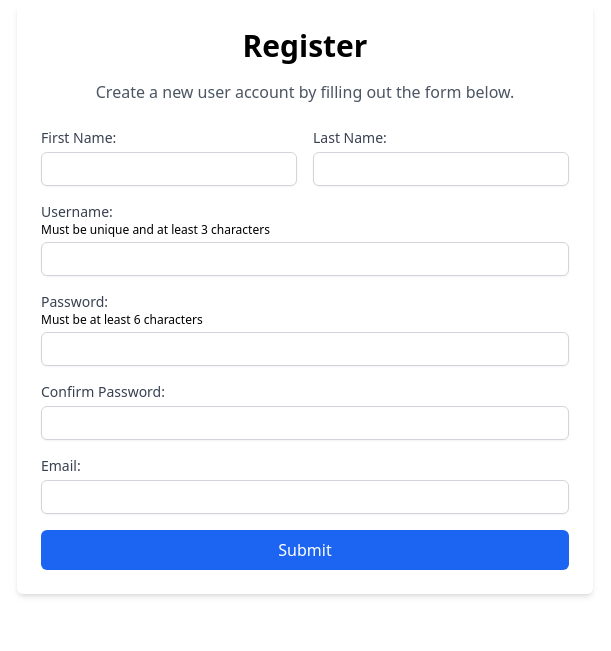
Scenario: RegisterUserForm component › shows server error text when response is not ok
The image size is (611, 651).
In the field labelled "Username:": (305,259) [41,242,569,276], type "testUser"
In the password field labelled "Password:": (305,349) [41,332,569,366], type "testPwd1"
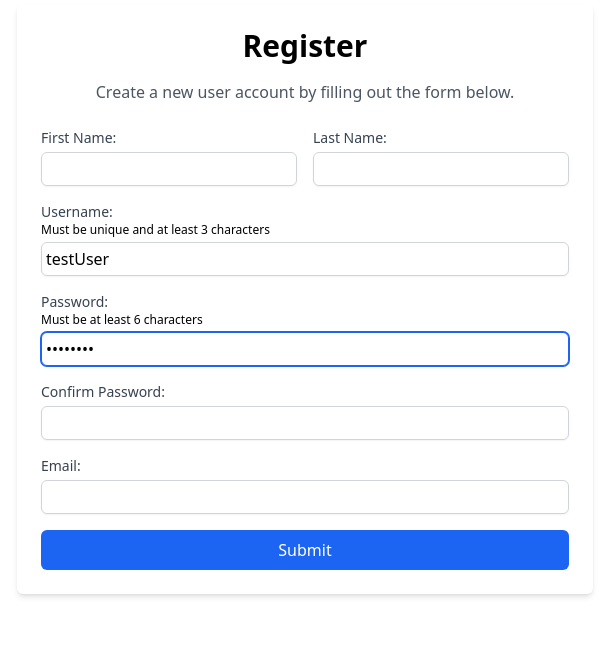
In the password field labelled "Confirm Password:": (305,423) [41,406,569,440], type "testPwd1"
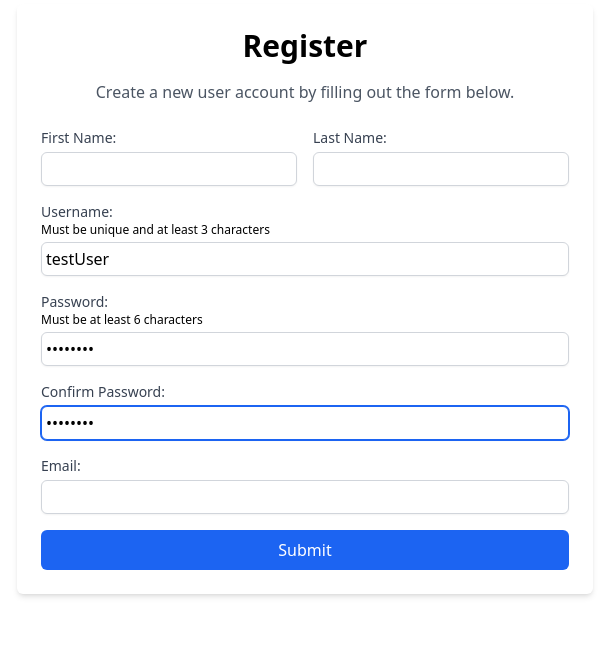
In the field labelled "Email:": (305,497) [41,480,569,514], type "jd@example.com"
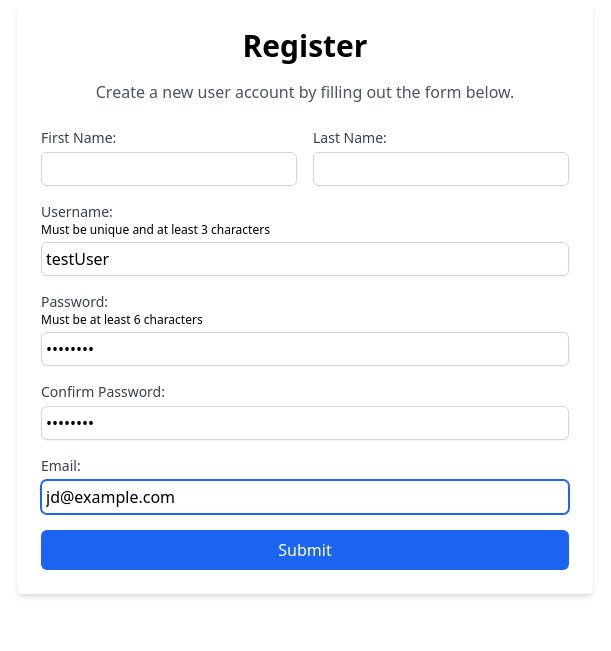
In the field labelled "First Name:": (169,169) [41,152,297,186], type "John"
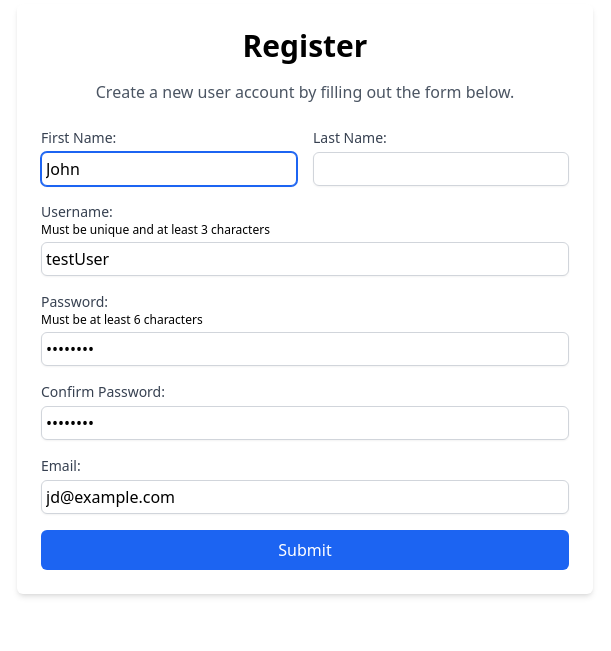
In the field labelled "Last Name:": (441,169) [313,152,569,186], type "Doe"
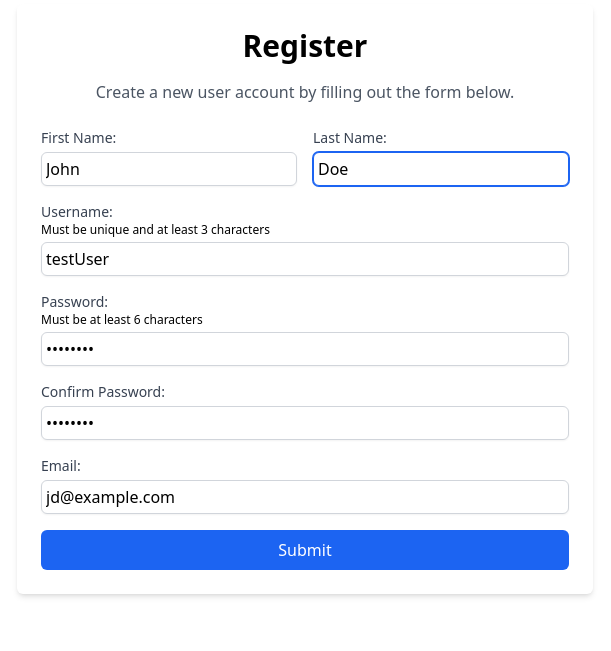
Click the button "Submit": (305,550) [41,530,569,570]
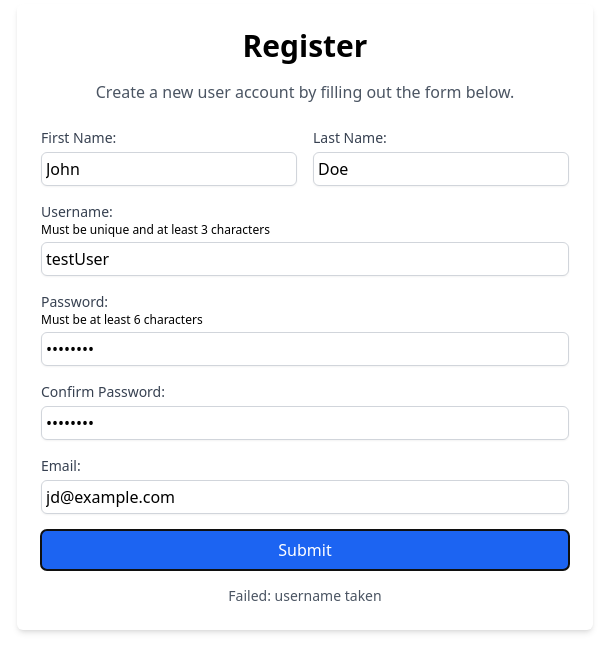
Now the text "Failed: username taken" is shown, box [228,586,382,605]
